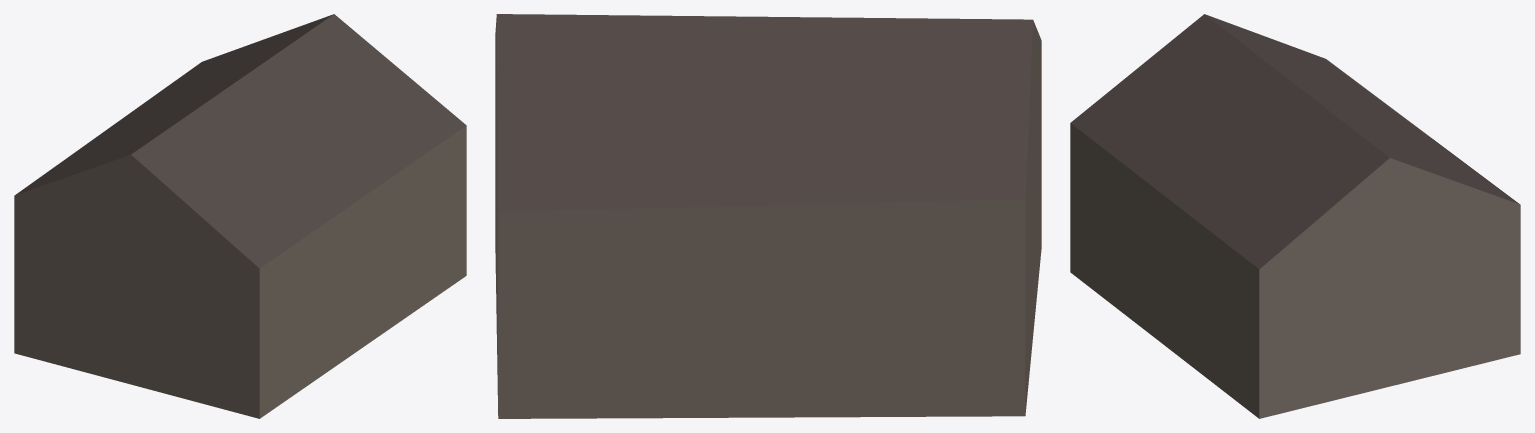
The picture shows the model from 3 angles, left to right: view 1: azimuth 30°, elevation 25°; view 2: azimuth 150°, elevation 25°; view 3: azimuth 270°, elevation 25°; orthographic projection. The views are drawn at different scales.
Parts seen in each view (by area): view 1: HP-w1512359793; view 2: HP-w1512359793; view 3: HP-w1512359793.
Part boxes in pixels (box(x1,y1,x2,y2)): HP-w1512359793: box(14, 14, 466, 418); HP-w1512359793: box(495, 14, 1041, 418); HP-w1512359793: box(1070, 14, 1520, 418).
Bounding box in the file's own units: 17.49 × 9.18 × 16.38.
